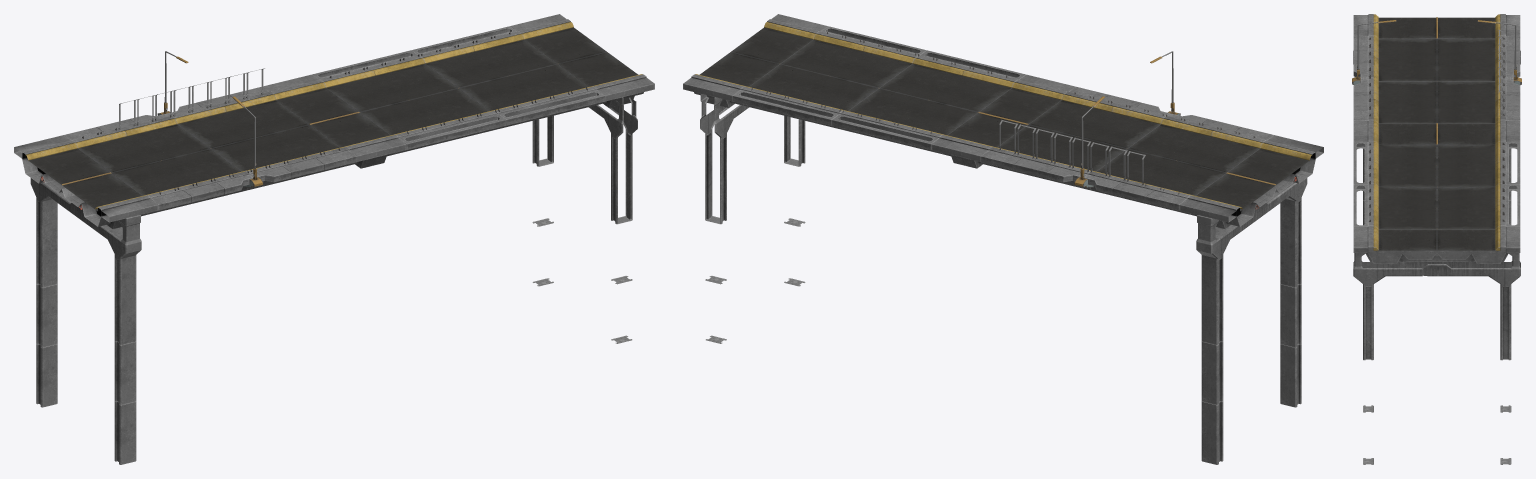
File: bridge.glb
3 views of the same model, side by side, from view 1: azimuth 30°, elevation 25°; view 2: azimuth 150°, elevation 25°; view 3: azimuth 270°, elevation 25° (orthographic). The views are drawn at different scales.
Visible parts, largest first — view 1: Object_16; view 2: Object_16; view 3: Object_16.
Part boxes in pixels (x1,y1,x2,y2): Object_16: [14, 14, 654, 464]; Object_16: [683, 14, 1323, 464]; Object_16: [1352, 14, 1521, 464].
Bounding box in the file's own units: 22.3 × 12.6 × 6.87.
Materials: 2 (2 with a texture image).
